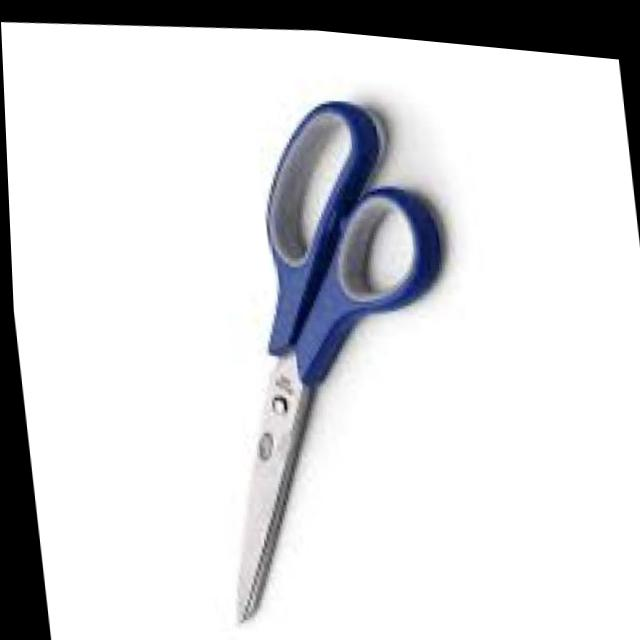scissor: (173, 72, 486, 640)
